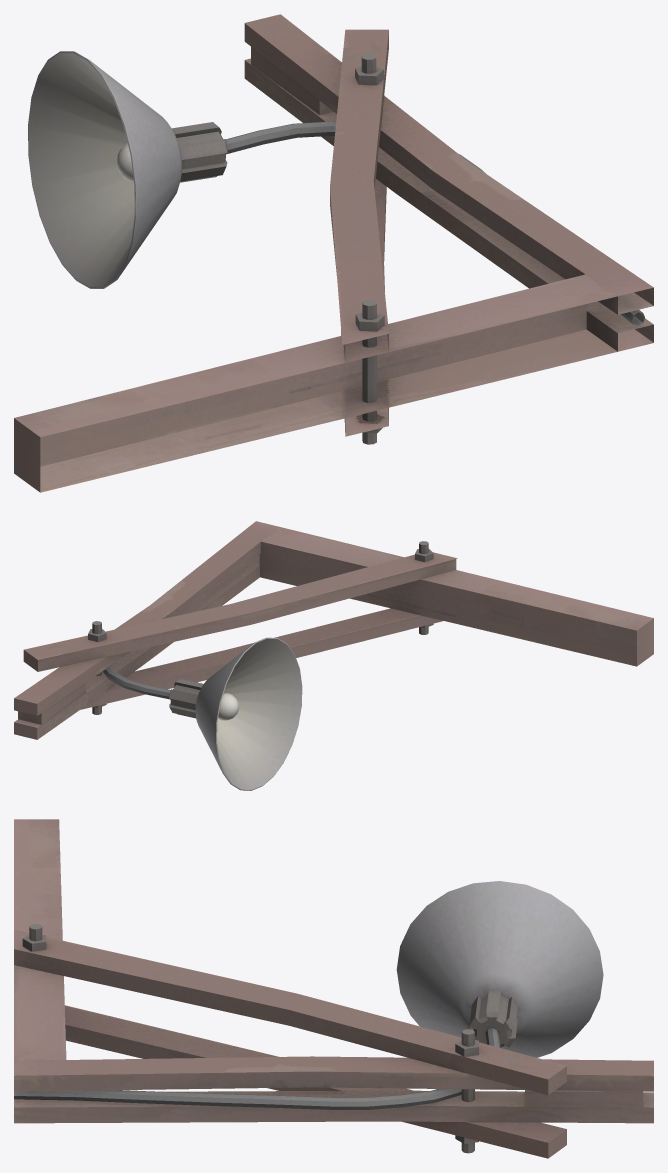
File: props_lights_lamp001.glb
3 renders of one model, top to bottom at view 1: azimuth 30°, elevation 25°; view 2: azimuth 150°, elevation 25°; view 3: azimuth 270°, elevation 25°, orthographic. The views are drawn at different scales.
Visible parts, largest first — view 1: models/props_lights/lamp001; view 2: models/props_lights/lamp001; view 3: models/props_lights/lamp001.
Part boxes in pixels (x1=…): models/props_lights/lamp001: x1=14, y1=14, x2=653, y2=492; models/props_lights/lamp001: x1=14, y1=521, x2=653, y2=790; models/props_lights/lamp001: x1=14, y1=819, x2=653, y2=1158.
Size of the model in its own units: 112 by 35.53 by 110.
1 material, 1 textured.
